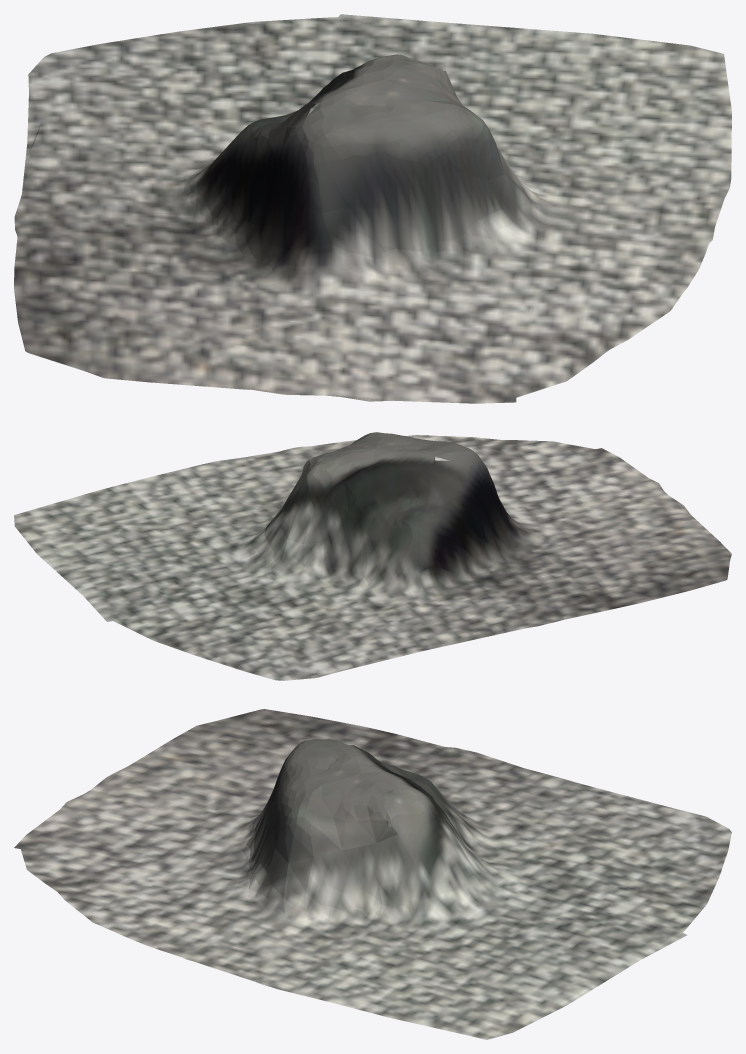
Rendered from scene-mt2onwq6.glb.
The picture shows the model from 3 angles, top to bottom: view 1: azimuth 30°, elevation 25°; view 2: azimuth 150°, elevation 25°; view 3: azimuth 270°, elevation 25°; orthographic projection. The views are drawn at different scales.
Visible parts, largest first — view 1: mesh; view 2: mesh; view 3: mesh.
Part boxes in pixels (x1,y1,x2,y2): mesh: (14,14,731,403); mesh: (14,432,731,680); mesh: (14,709,731,1039).
Bounding box in the file's own units: 0.0817 × 0.0132 × 0.0769.
Materials: 1 (1 with a texture image).
